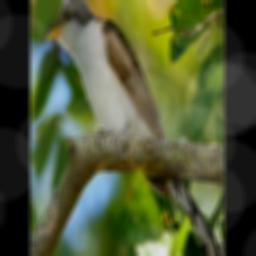Cuckoo: (38, 0, 225, 256)
